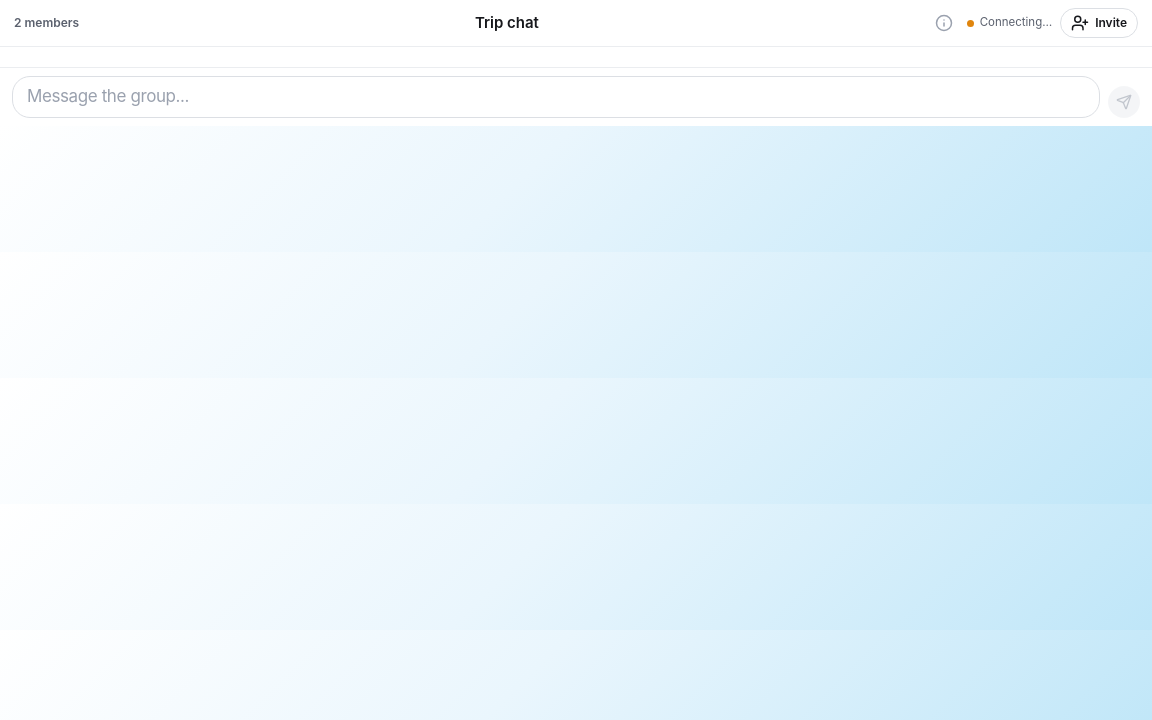
Test: ChatPane › retries a failed message and clears the failure once it succeeds
Step 1. Type "Retry me" into the field labelled "Message" → (556, 97), box [12, 76, 1100, 118]
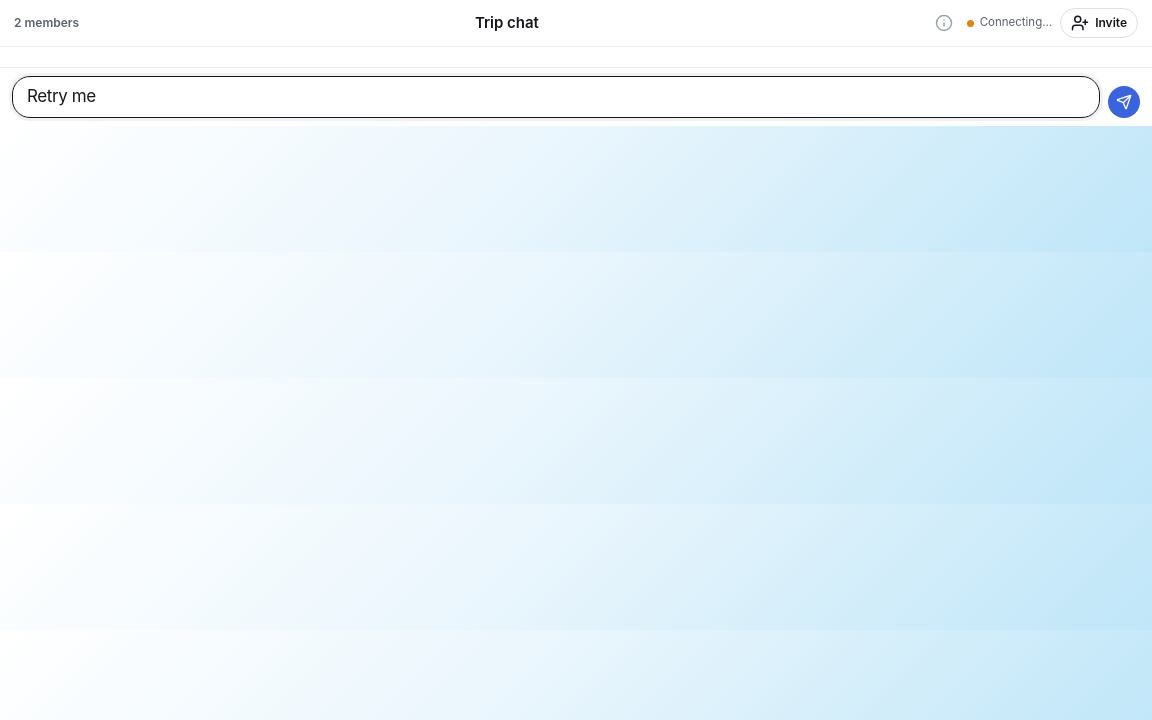
Step 2. Click the button named "Send message" → (1124, 102), box [1108, 86, 1140, 118]
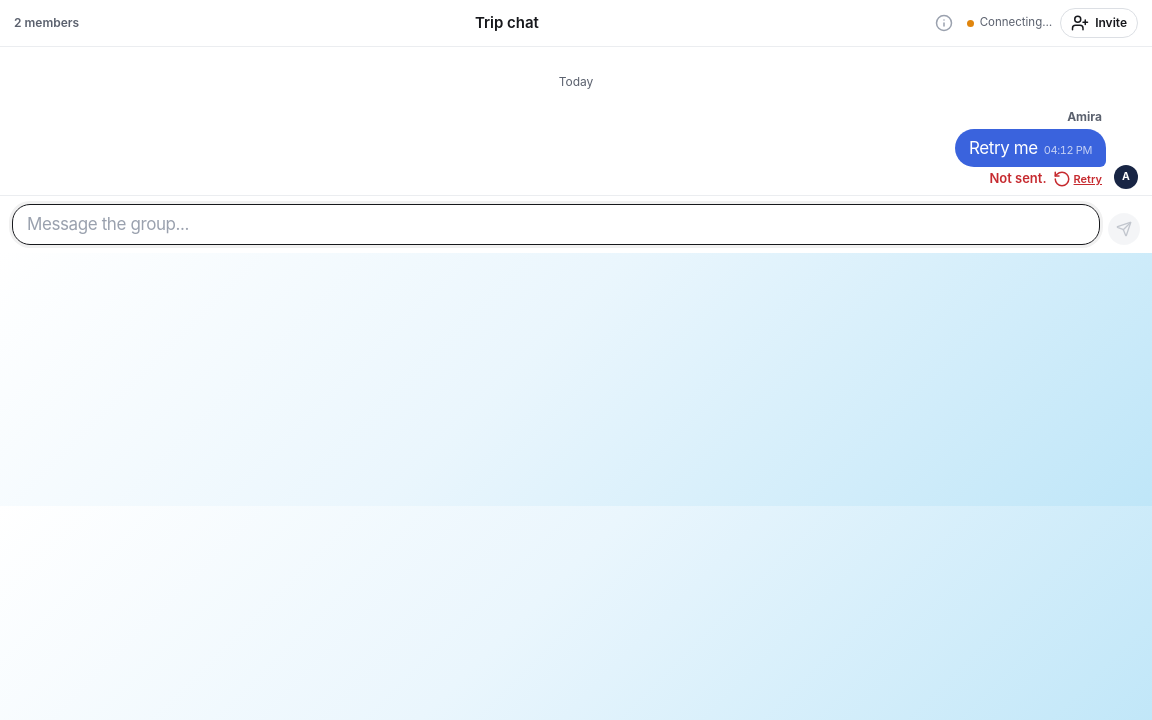
Now the text "Not sent." is shown, box [989, 170, 1047, 186]
Step 3. Click the button "Retry" → (1077, 179), box [1053, 170, 1102, 188]
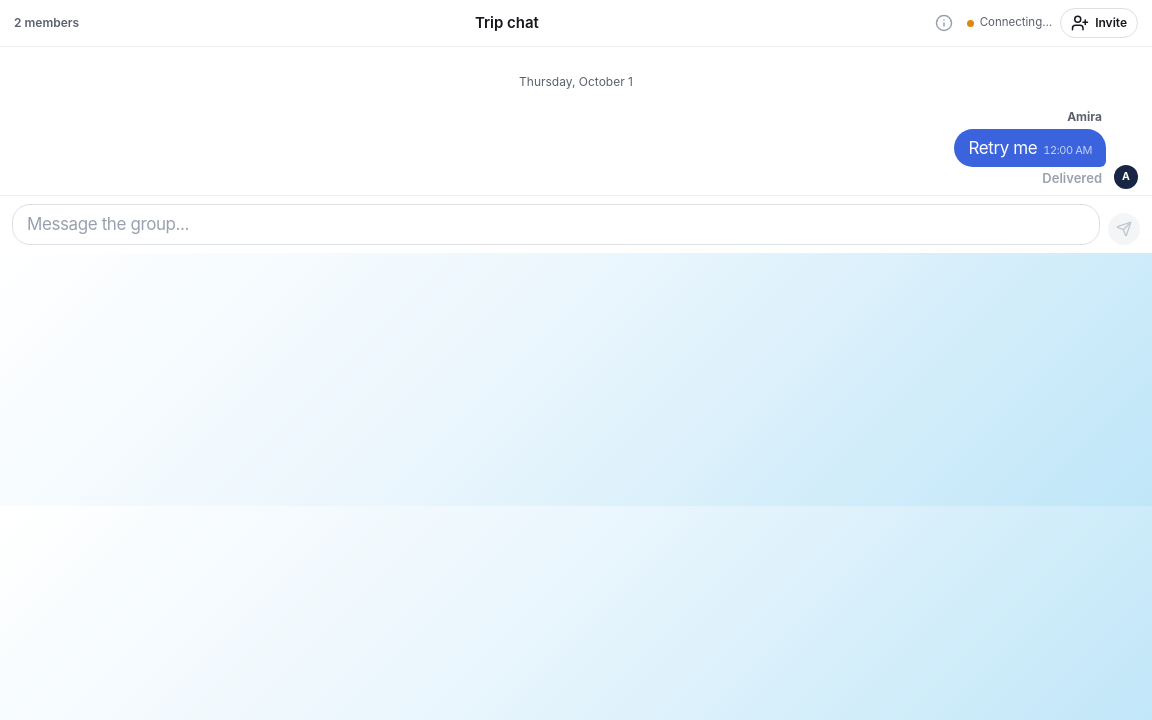
Now the text "Retry me" is shown, box [968, 138, 1037, 158]
Now the text "Not sent." is gone
